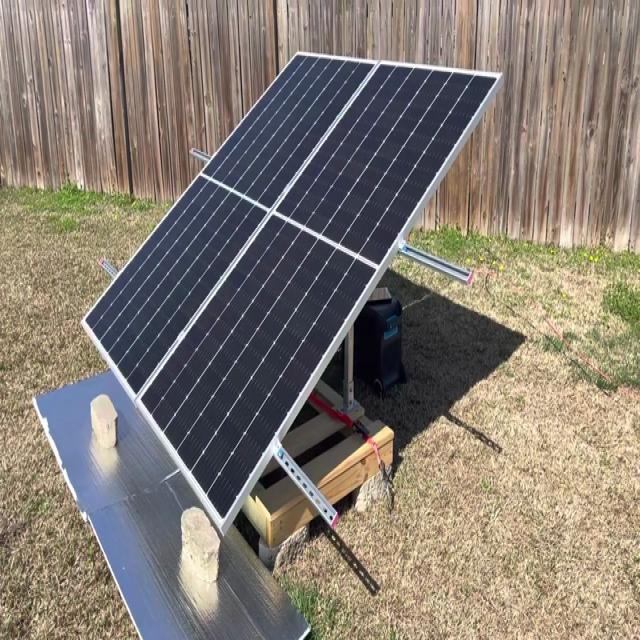Normal Solar Panel: (83, 56, 497, 531)
